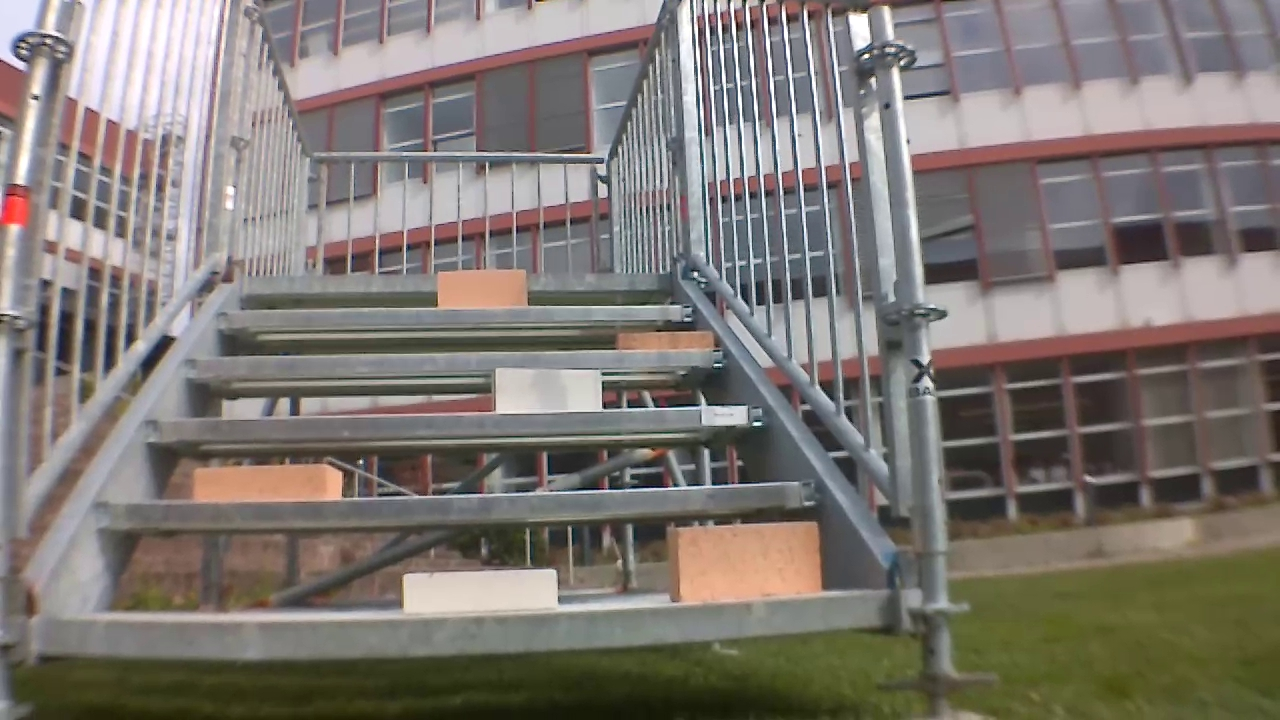brick: (666, 514, 826, 606), (400, 568, 560, 612), (181, 464, 347, 499), (492, 372, 605, 416), (436, 266, 523, 309), (613, 326, 721, 353)
edge: (37, 592, 890, 662), (97, 481, 823, 539), (142, 403, 770, 452), (185, 348, 732, 384), (215, 305, 697, 333), (237, 269, 671, 293)
stairs: (0, 0, 944, 684)
steps: (25, 269, 890, 668)
